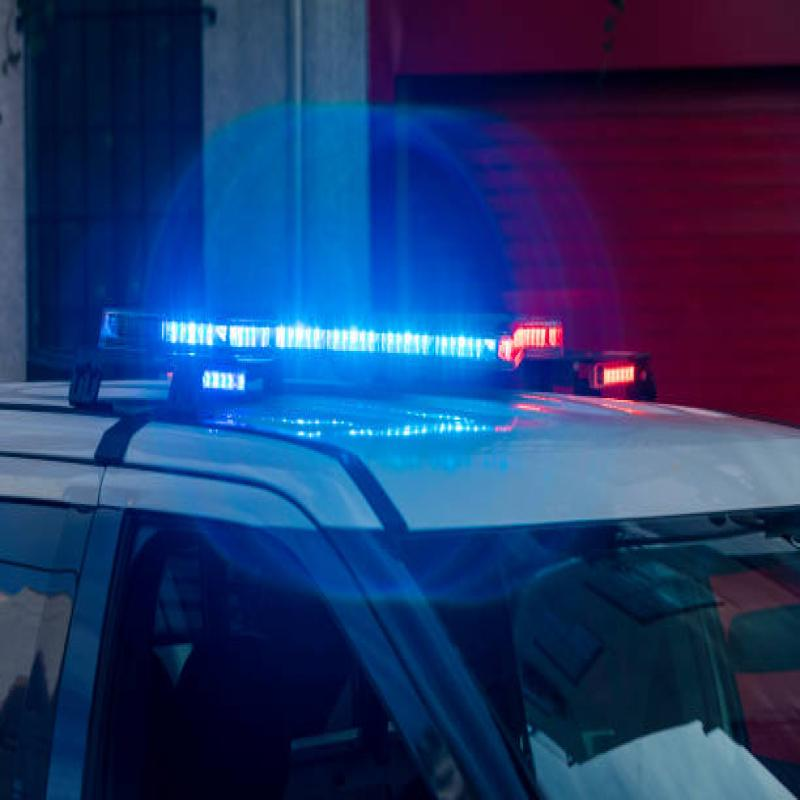AmbulanceSiren: (66, 298, 670, 453)
